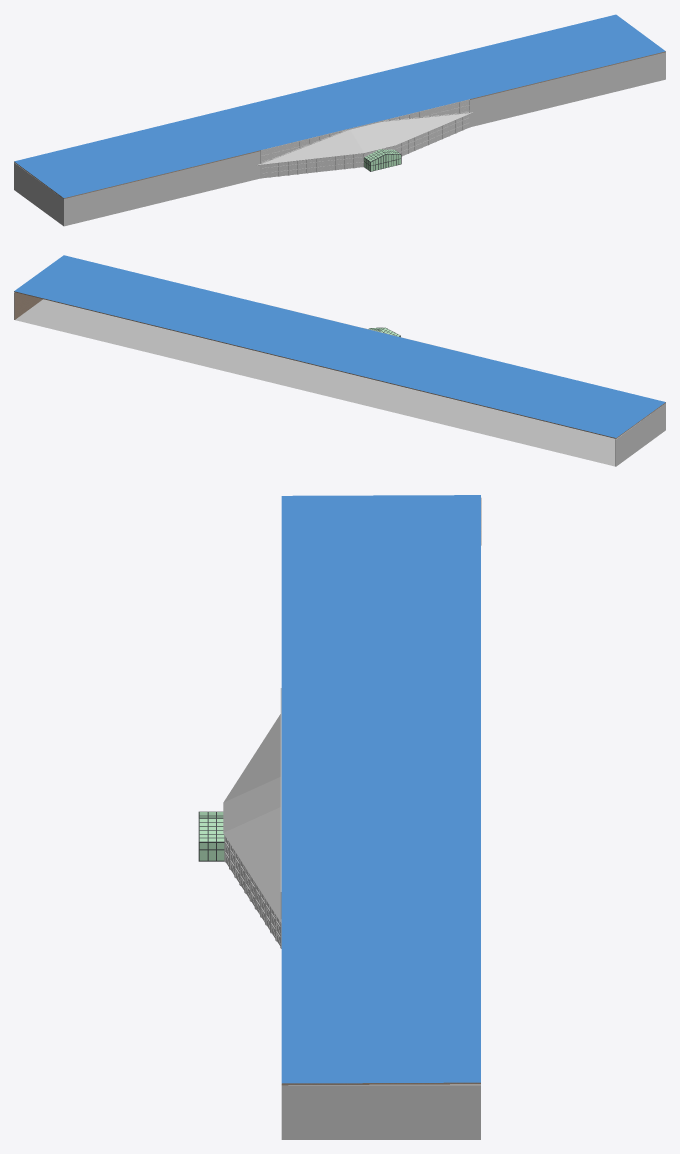
Rendered from Left_side_starion.fbx.
The picture shows the model from 3 angles, top to bottom: view 1: azimuth 30°, elevation 25°; view 2: azimuth 150°, elevation 25°; view 3: azimuth 270°, elevation 25°; orthographic projection. The views are drawn at different scales.
Parts seen in each view (by area): view 1: Plane.091, Plane.090, Plane.087, Plane.088, Plane.089, Cross_wall__2__20.004, Plane.083, Plane.084; view 2: Plane.091, Plane.093, Plane.090; view 3: Plane.091, Plane.090, Plane.087, Plane.089, Plane.083.
Part boxes in pixels (x1=…): Plane.091: x1=14, y1=14, x2=665, y2=198; Plane.090: x1=14, y1=52, x2=665, y2=226; Plane.087: x1=257, y1=112, x2=473, y2=165; Plane.088: x1=261, y1=115, x2=469, y2=178; Plane.089: x1=260, y1=114, x2=470, y2=178; Cross_wall__2__20.004: x1=260, y1=99, x2=469, y2=163; Plane.083: x1=364, y1=149, x2=400, y2=171; Plane.084: x1=364, y1=149, x2=401, y2=171; Plane.091: x1=14, y1=255, x2=665, y2=438; Plane.093: x1=15, y1=299, x2=615, y2=466; Plane.090: x1=14, y1=292, x2=665, y2=466; Plane.091: x1=281, y1=495, x2=480, y2=1085; Plane.090: x1=281, y1=498, x2=481, y2=1139; Plane.087: x1=223, y1=714, x2=281, y2=923; Plane.089: x1=224, y1=835, x2=281, y2=948; Plane.083: x1=199, y1=812, x2=224, y2=860.
Bounding box in the file's own units: 22327 × 1015 × 4540.
